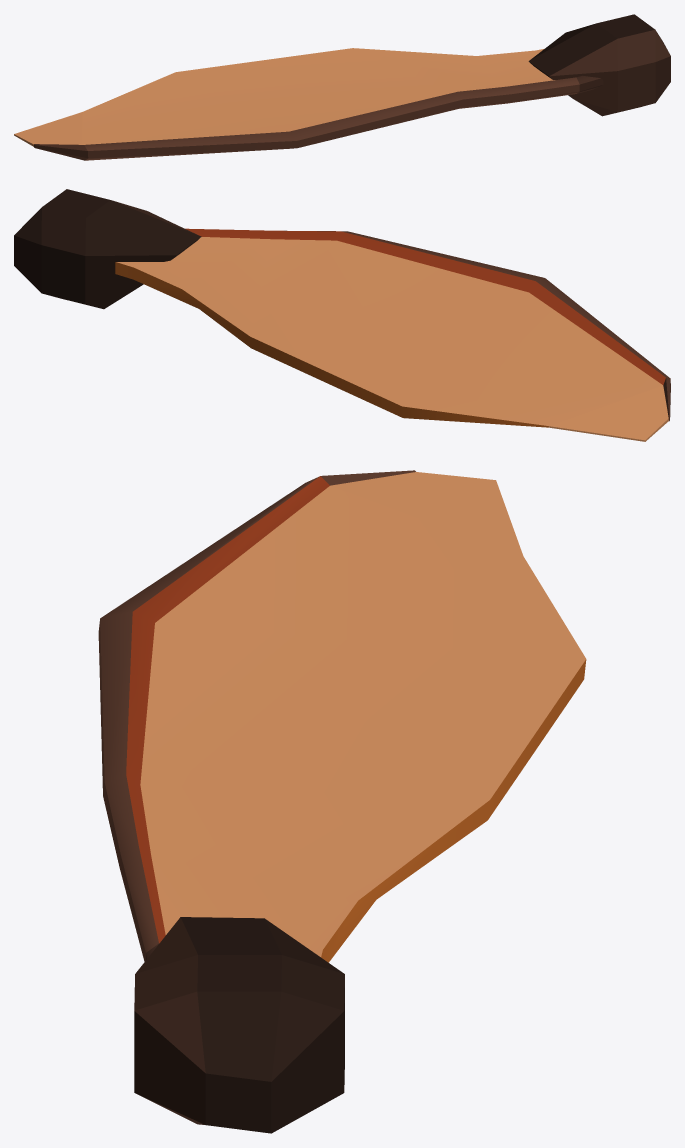
File: Copter.fbx
The picture shows the model from 3 angles, top to bottom: view 1: azimuth 30°, elevation 25°; view 2: azimuth 150°, elevation 25°; view 3: azimuth 270°, elevation 25°; orthographic projection. The views are drawn at different scales.
Parts seen in each view (by area): view 1: Copter; view 2: Copter; view 3: Copter.
Boxes of the visible parts, x1,y1,x2,y2 form: Copter: (14, 14, 670, 160); Copter: (14, 189, 670, 441); Copter: (98, 470, 586, 1133).
Size of the model in its own units: 5.24 by 0.6532 by 1.87.
